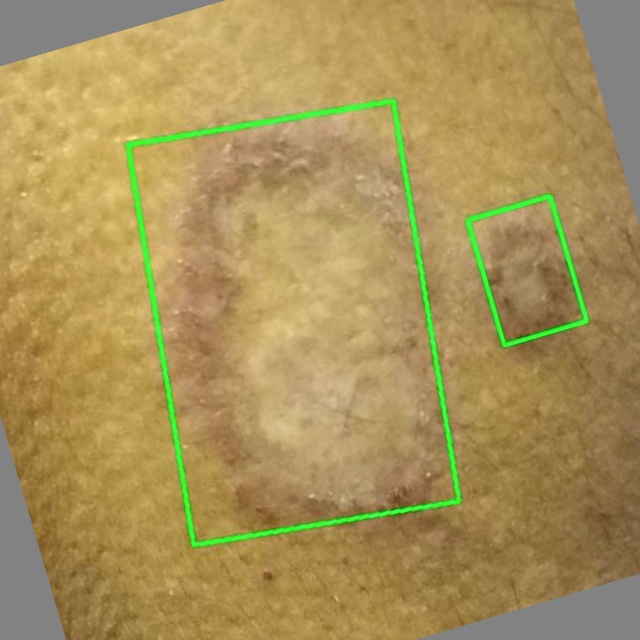Tinea Corporis: (128, 101, 460, 545), (467, 196, 586, 345)
